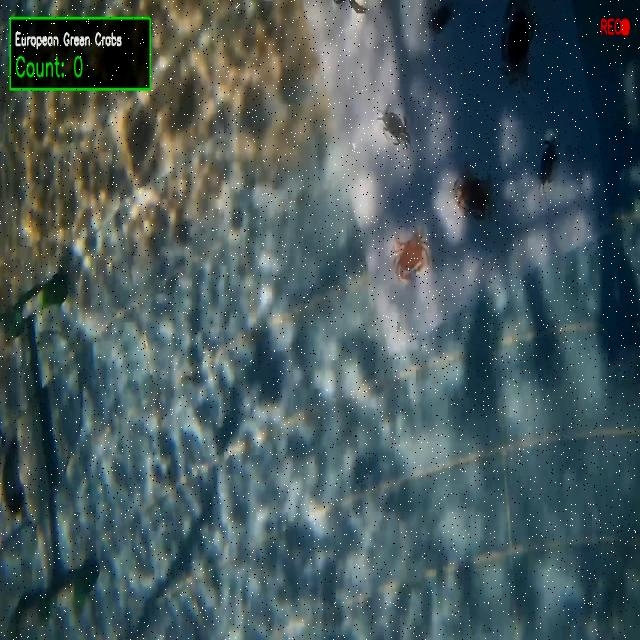European_Green_Crab: (373, 94, 415, 162), (533, 133, 564, 197), (329, 0, 372, 25)
